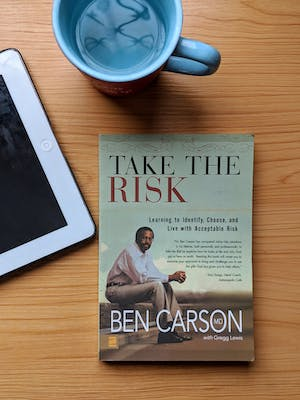book: (97, 132, 257, 363)
